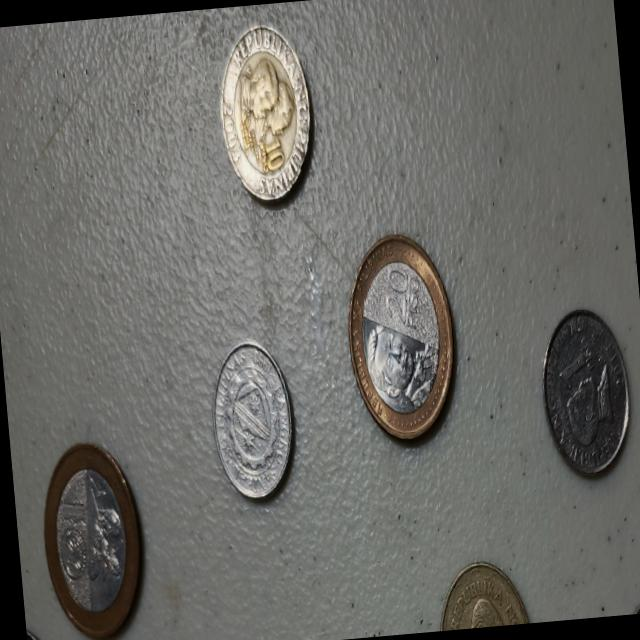10_peso: (220, 26, 309, 201)
1_peso: (543, 311, 628, 473), (213, 343, 290, 497)
20_peso: (348, 235, 452, 436), (44, 444, 138, 636)
